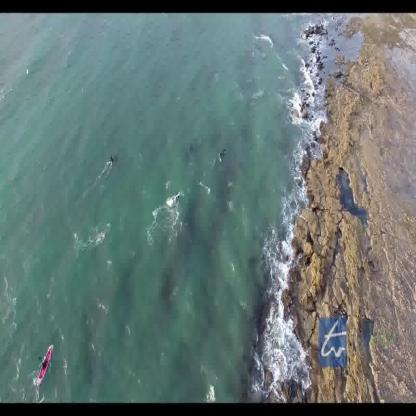Boat: (31, 340, 58, 385)
